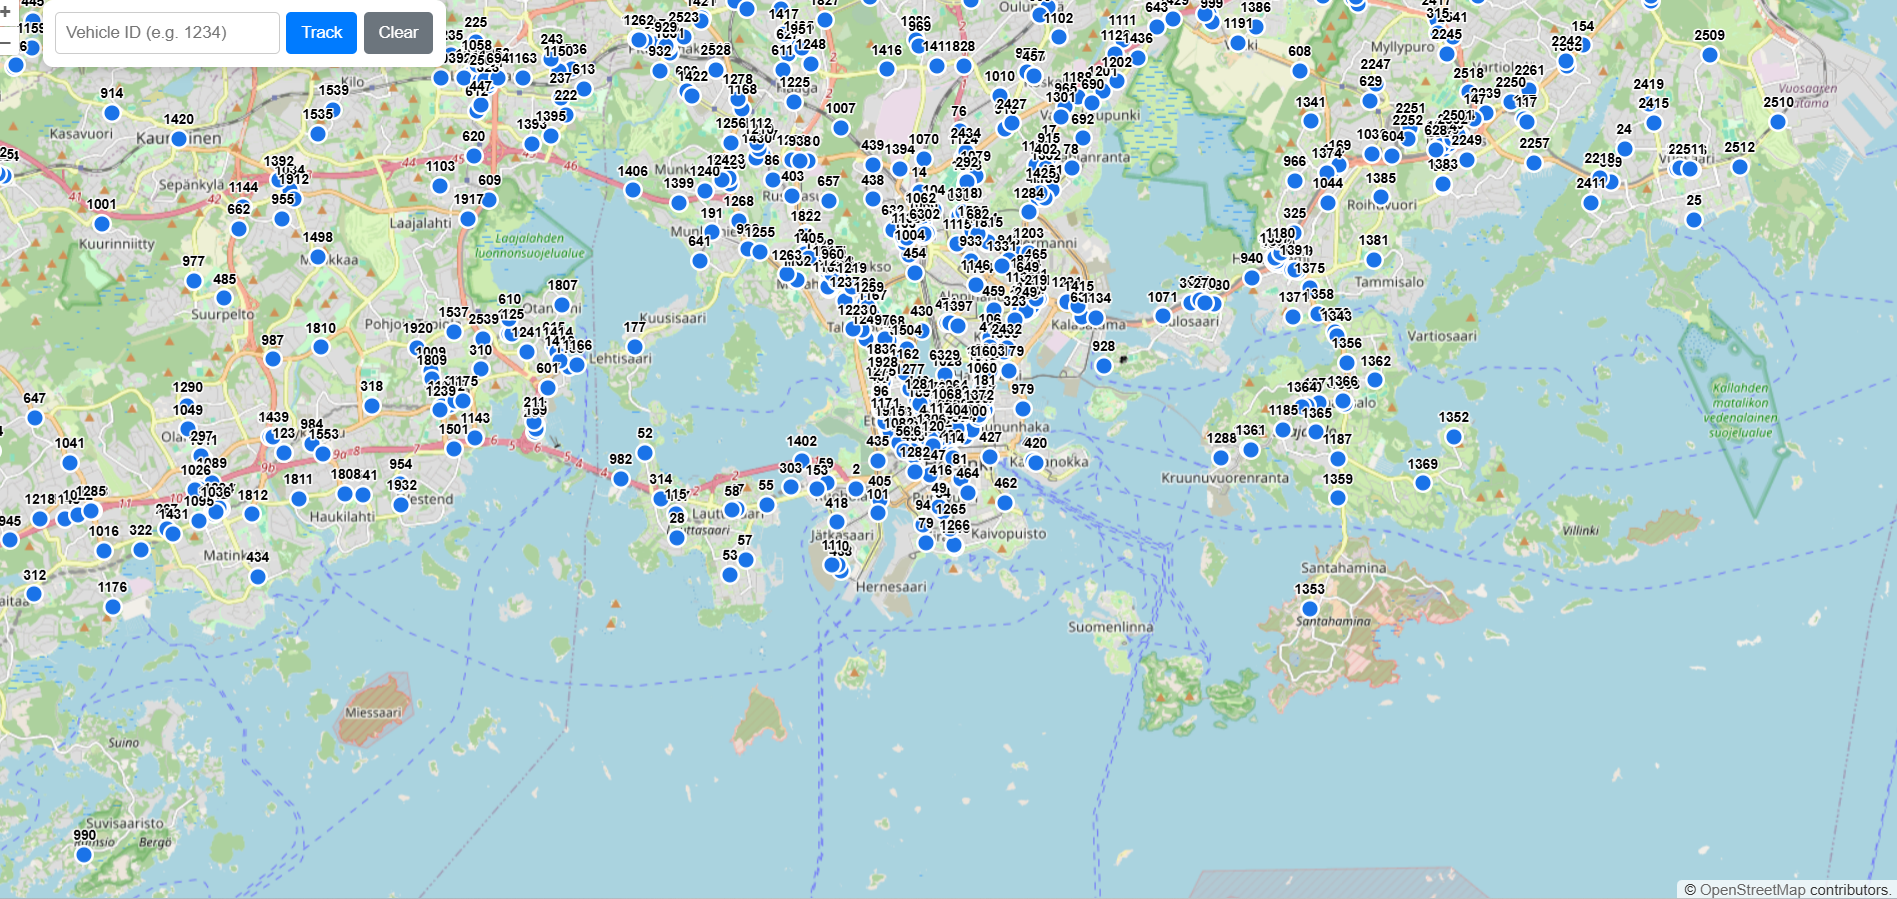

The page's visual inventory and layout, read from the dashboard file:
{"tool":"powerbi","page":{"name":"Live tracking Buses","canvas":[1280,720],"ordinal":1},"visuals":[{"type":"htmlContent443BE3AD55E043BF878BED274D3A6855","fields":{"content":["v_vehicle_base.Live_Tracker_Frame"]},"box":[0,99,1280.3,609],"z":0},{"type":"htmlContent443BE3AD55E043BF878BED274D3A6855","box":[489.1,708,456.1,12.2],"z":1000},{"type":"textbox","box":[0,30.6,1280.3,68.5],"z":2000}]}

Visuals, with their boxes on the page's 1280x720 design canvas (x1, y1, x2, y2). These are canvas units, not pixel positions in the 1897x899 screenshot, which may show the page scaled, cropped or inside an application window:
htmlContent443BE3AD55E043BF878BED274D3A6855 - v_vehicle_base.Live_Tracker_Frame: locate(0, 99, 1280, 708)
htmlContent443BE3AD55E043BF878BED274D3A6855: locate(489, 708, 945, 720)
textbox: locate(0, 31, 1280, 99)
